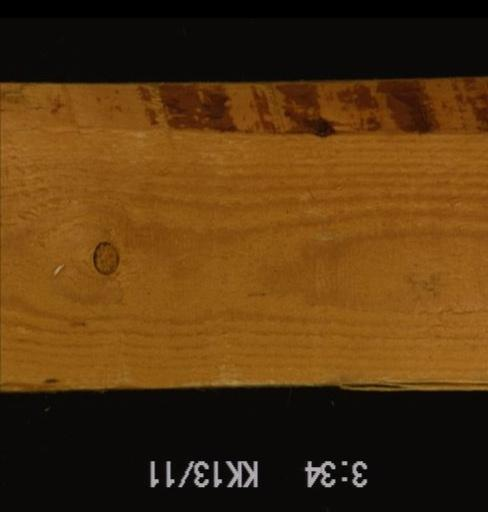dry_knot: (92, 240, 121, 276)
wave: (0, 79, 486, 141), (0, 371, 68, 391)
